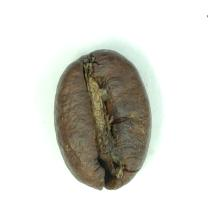NG: (79, 59, 135, 181)
